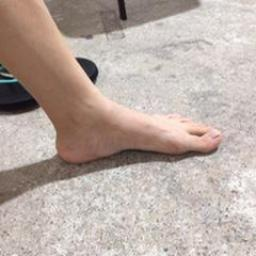Medial View -Left Foot-: (32, 85, 227, 175)
